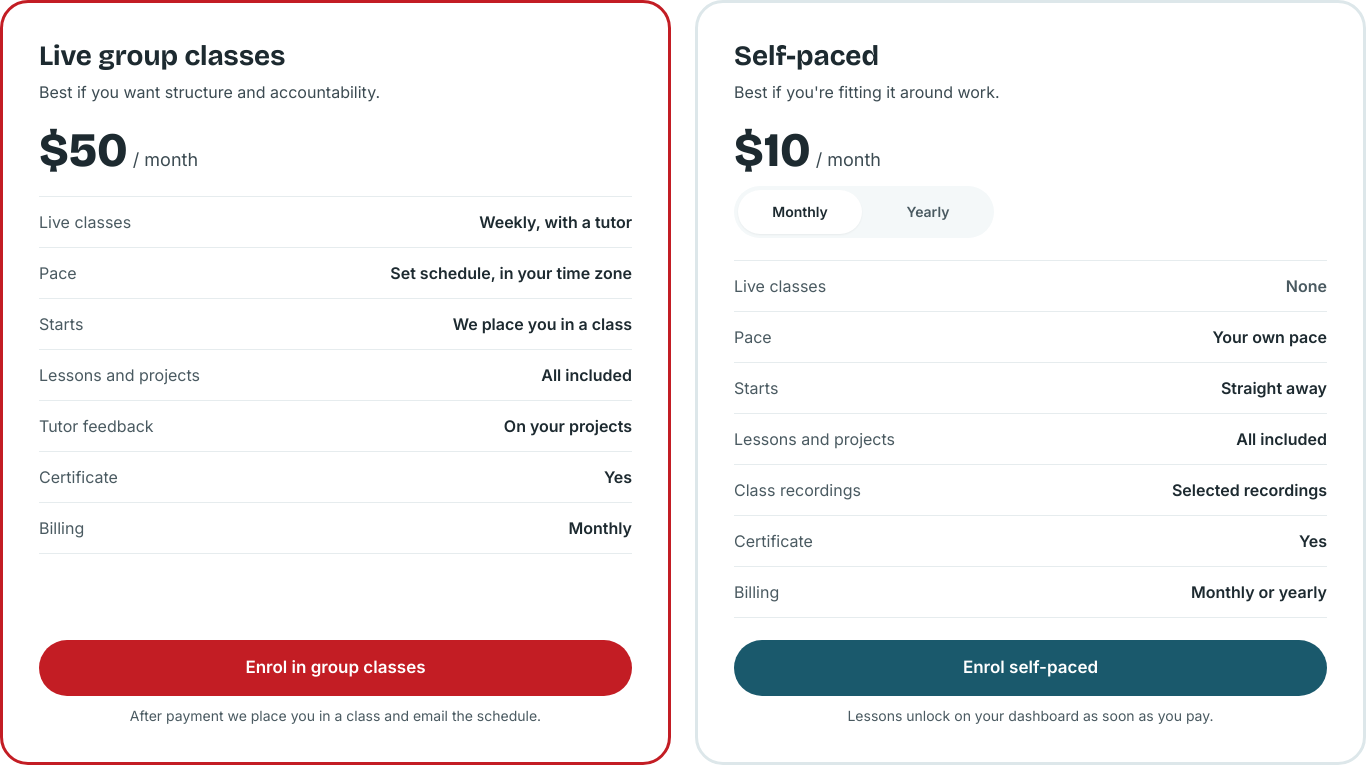
Test: EnrollOptions self-paced › switches to the yearly price and charges yearly
Later steps or results of the test are not shown.
Click the button "yearly" at (928, 212), box [866, 190, 990, 234]
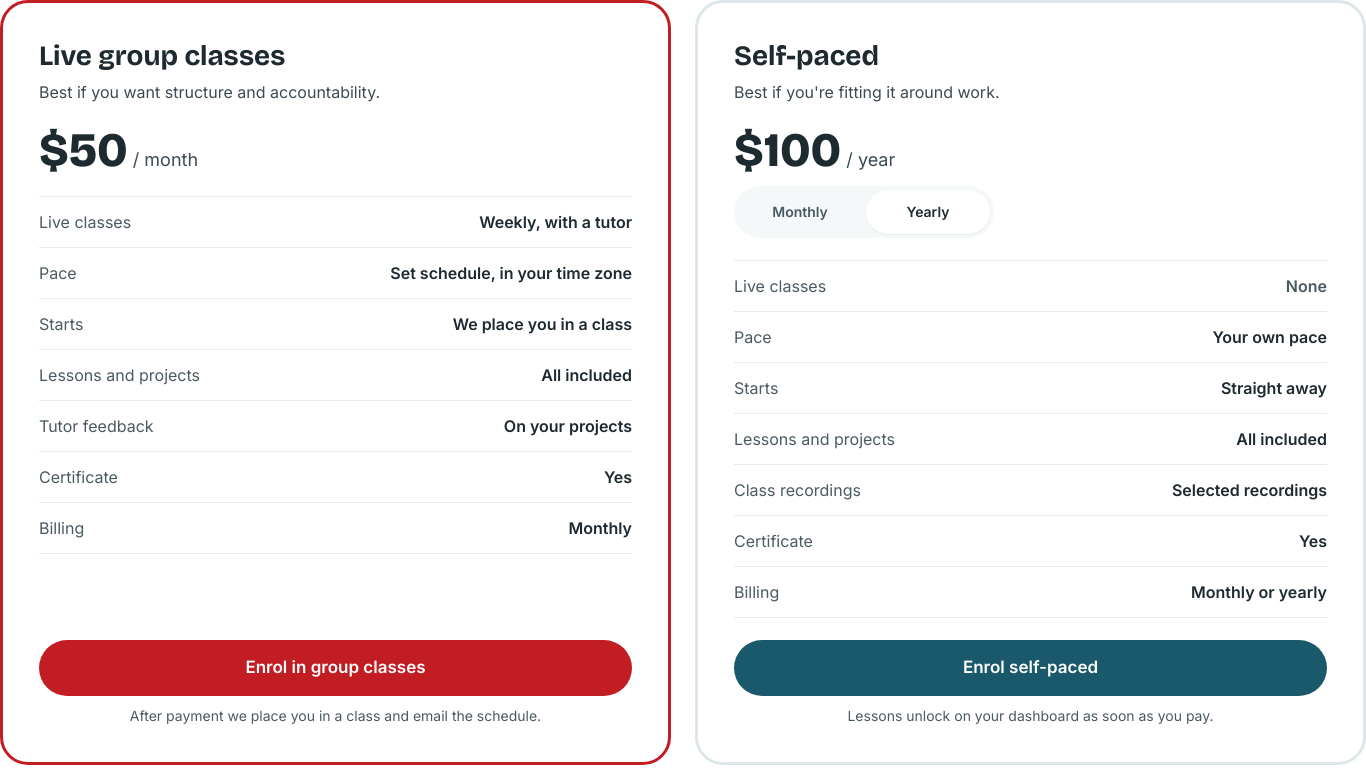
Result: the text "$100" is shown at [734, 121, 841, 179]
Result: the text "/ year" is shown at [734, 121, 895, 179]
